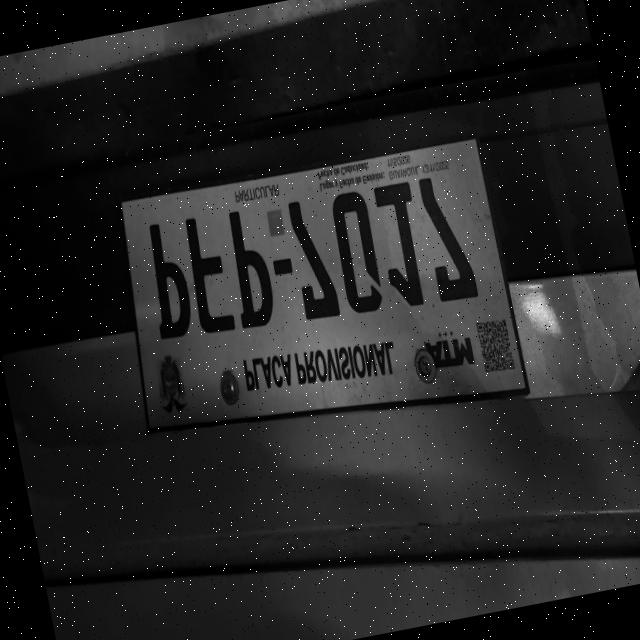Placa: (123, 139, 527, 429)
